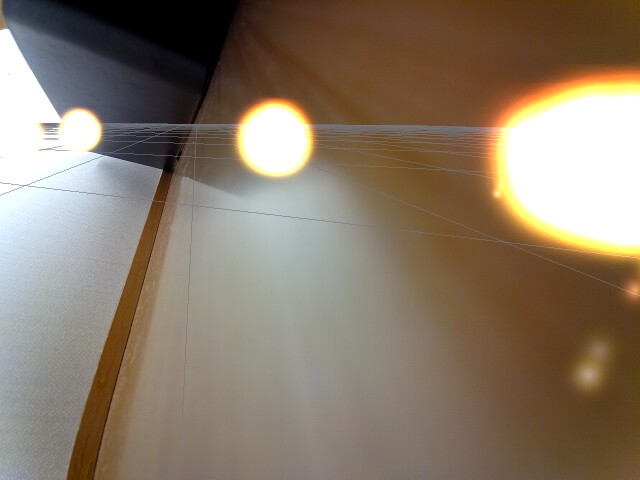firebig: (482, 56, 639, 265)
